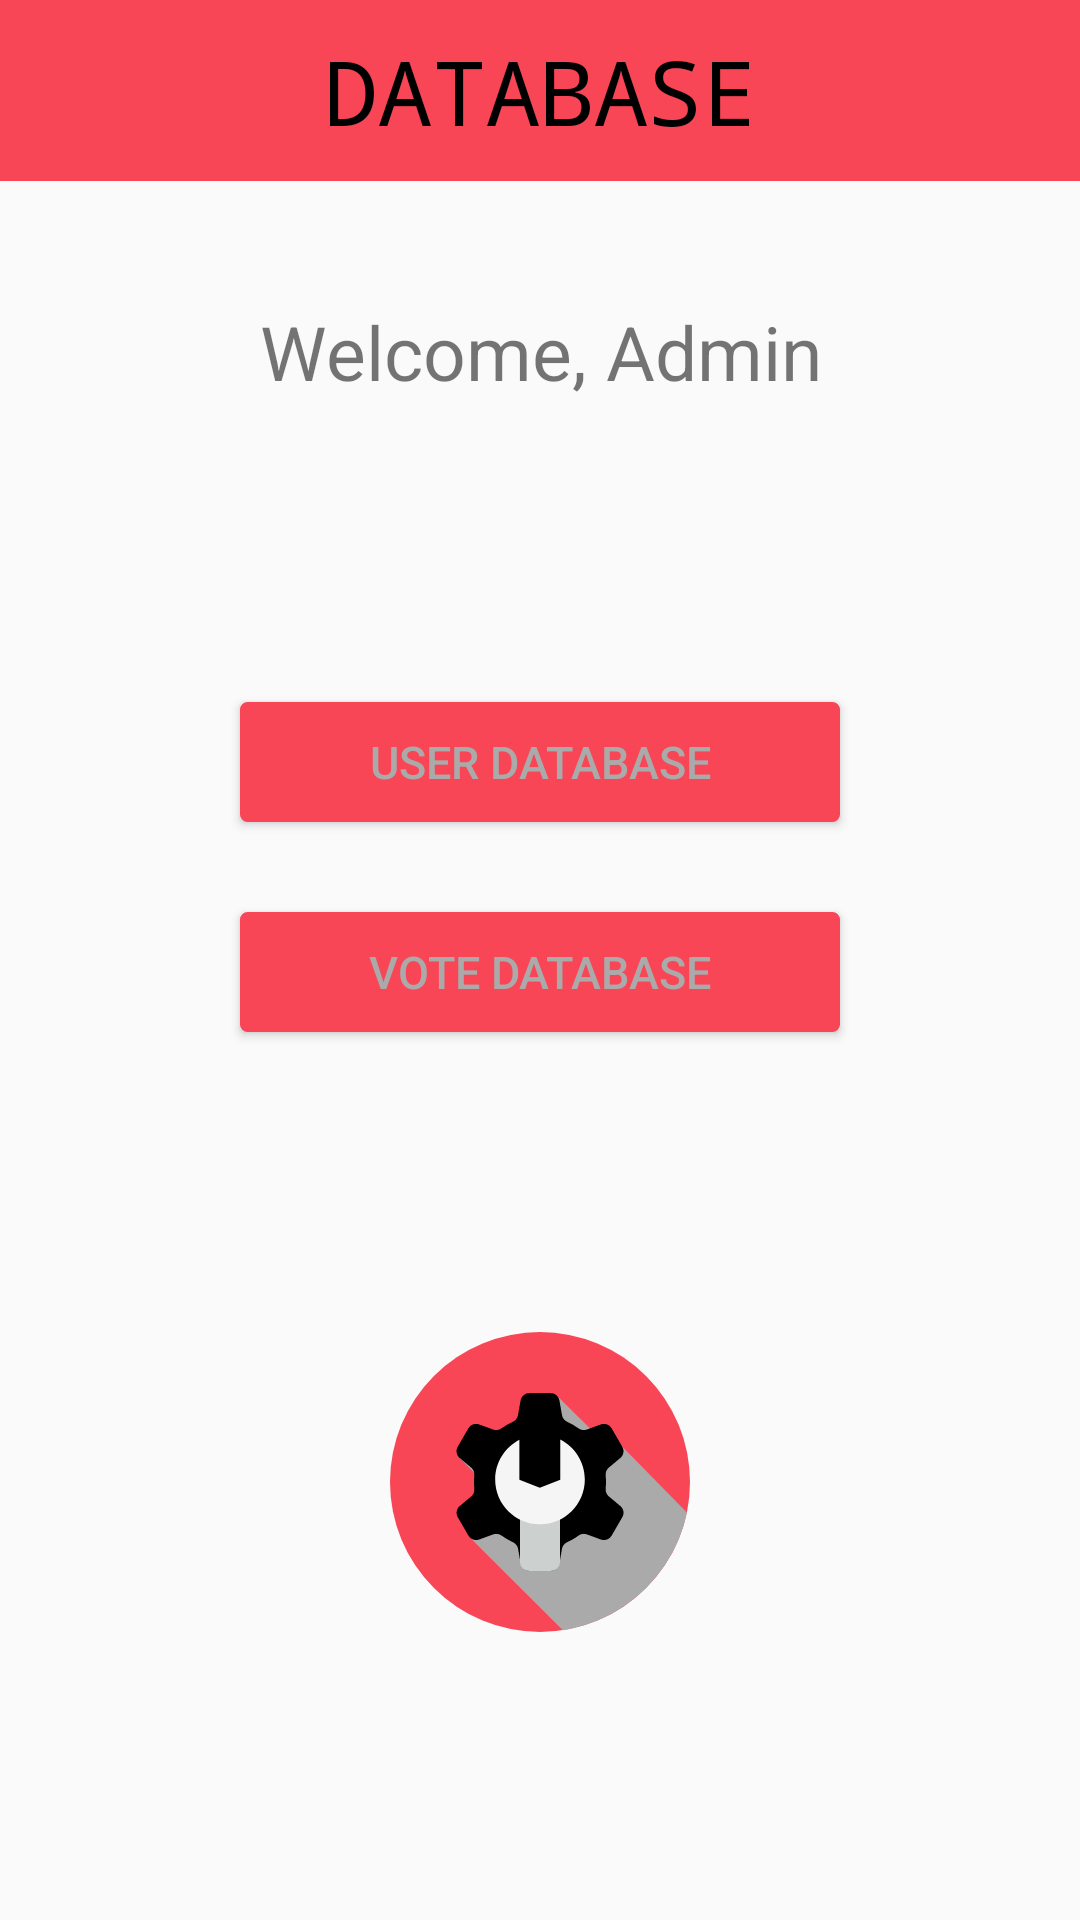

Icons on this 1080px×1920px Android screen, each with its box as (x1, y1, x2, y2):
admin: (390, 1332, 690, 1632)
